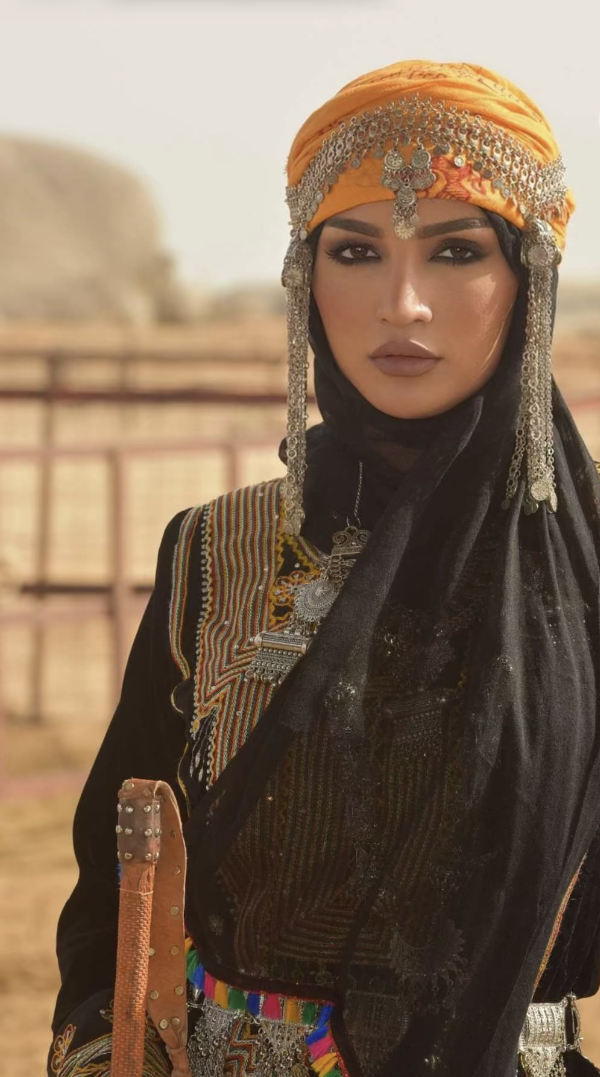Saudi_Founding_Day: (38, 57, 600, 1072)
